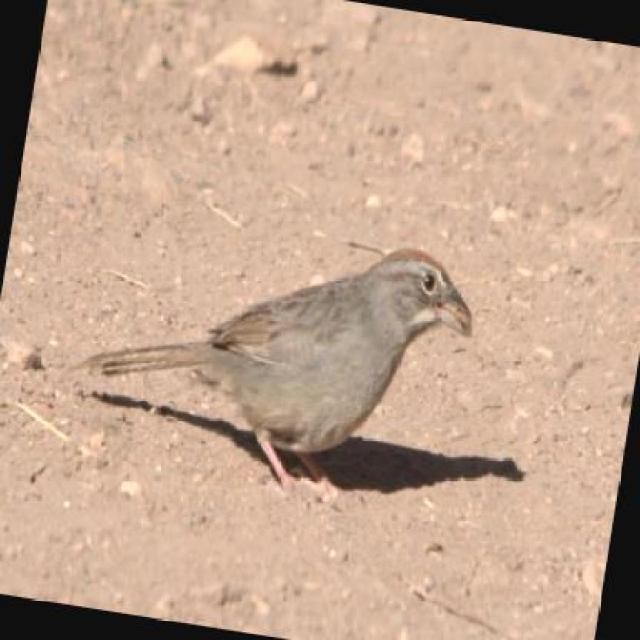Bird: (126, 251, 450, 449)
